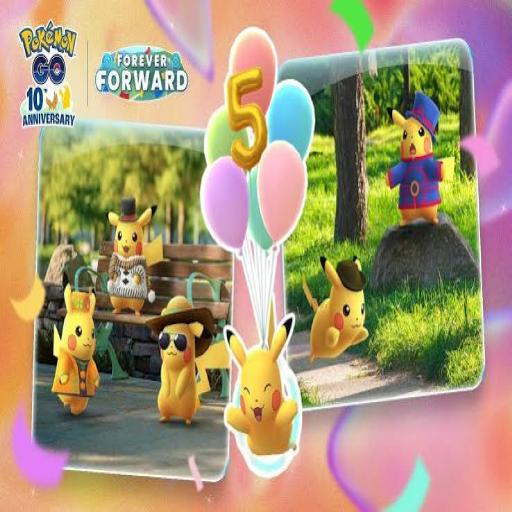Pikachu: (222, 294, 300, 457), (147, 297, 229, 424), (385, 93, 447, 227), (302, 255, 370, 362), (51, 271, 101, 415), (105, 197, 163, 317)
